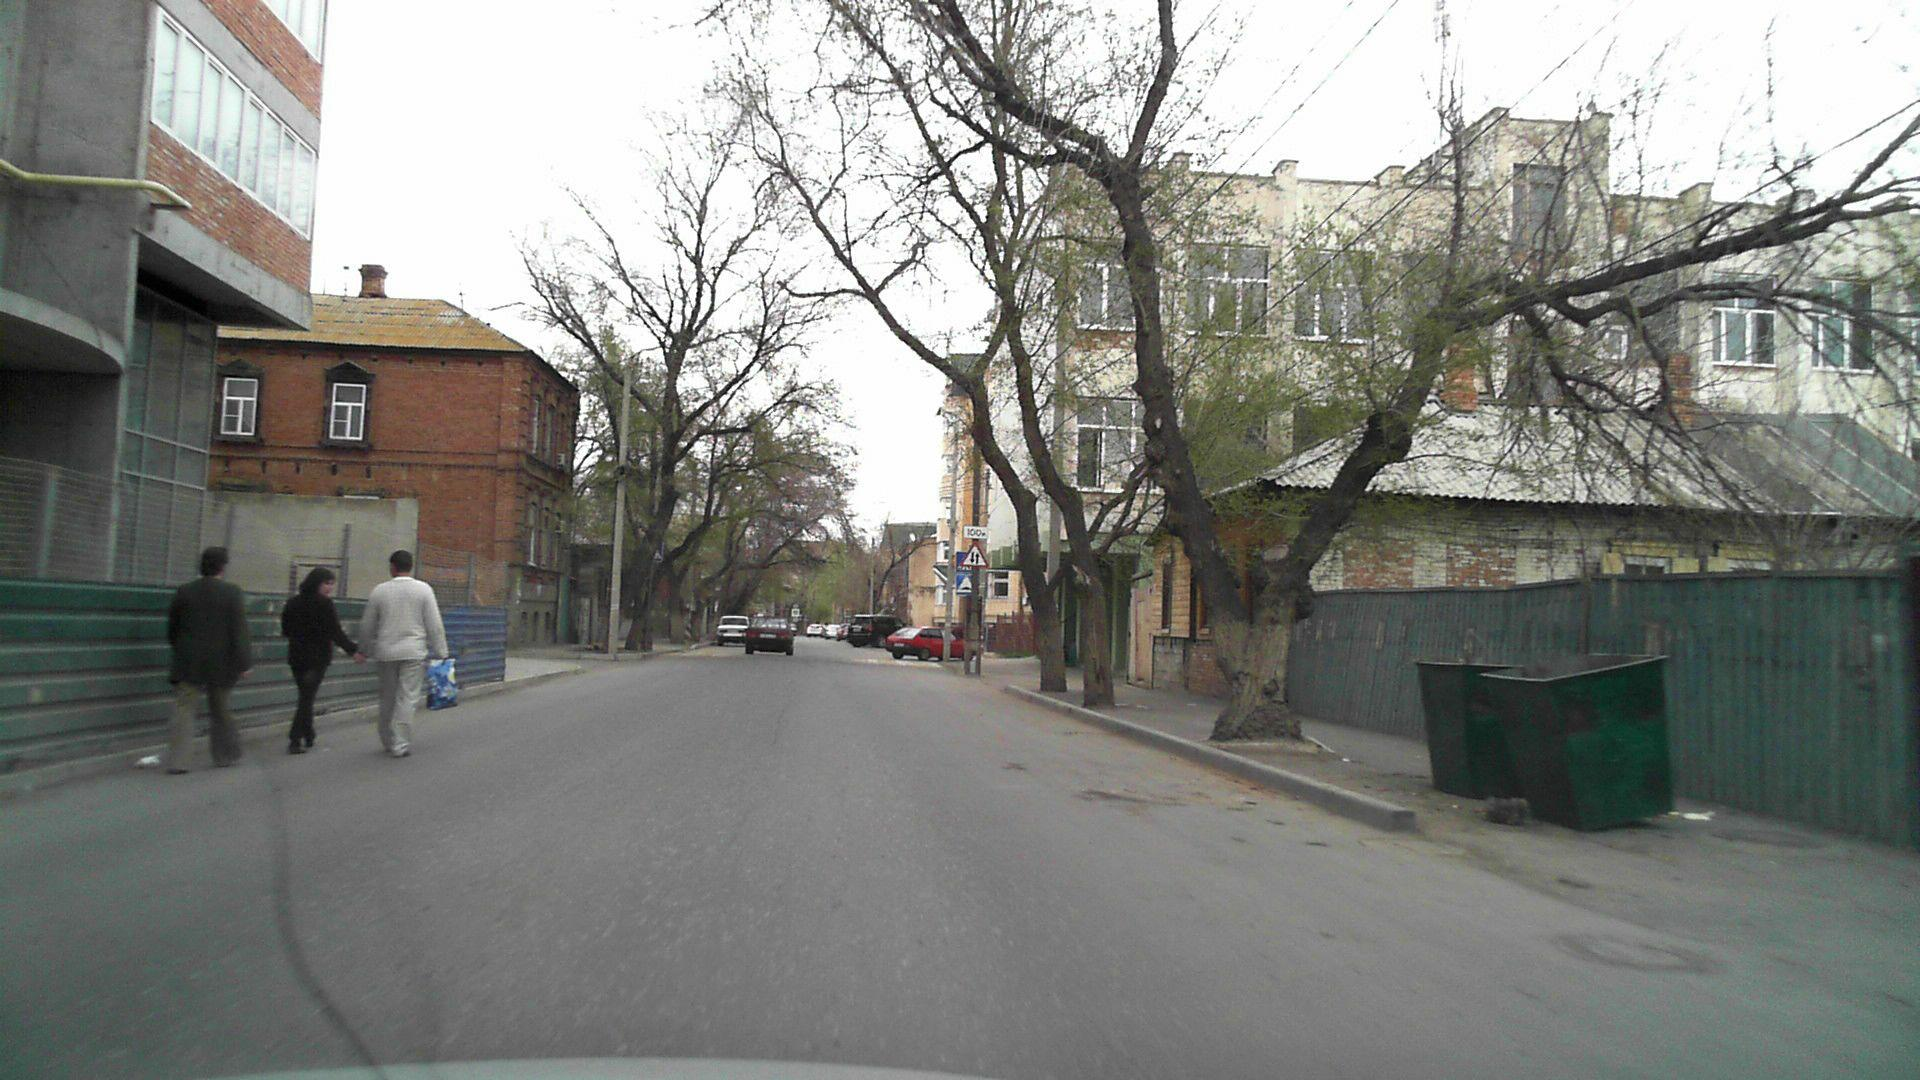1_21: (963, 543, 990, 568)
5_20: (956, 574, 973, 595)
8_1_1: (964, 525, 986, 538)
